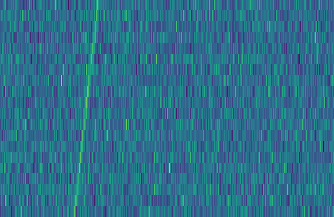signal: (68, 0, 102, 217)
